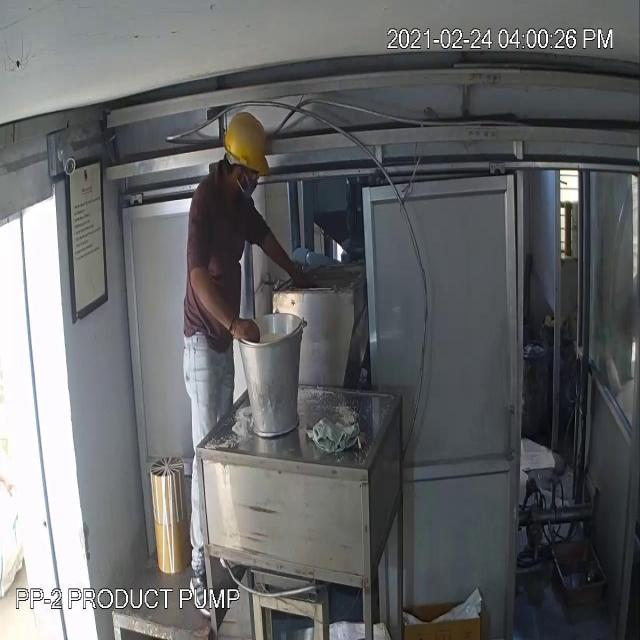helmet: (224, 104, 276, 177)
